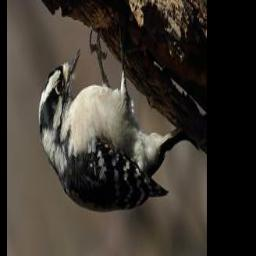Woodpecker: (39, 27, 190, 212)
